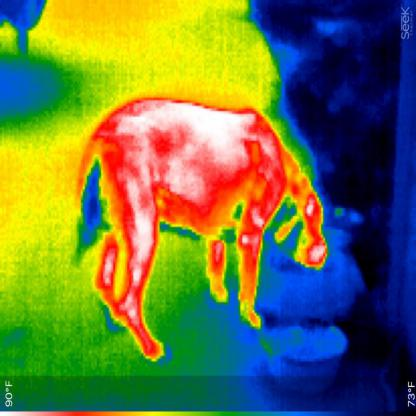dog: (71, 90, 330, 362)
